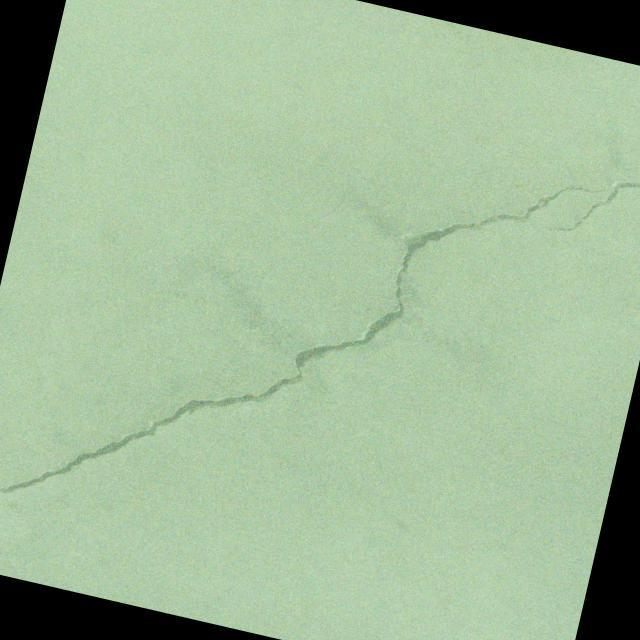crack: (0, 61, 605, 640), (541, 140, 640, 257)
